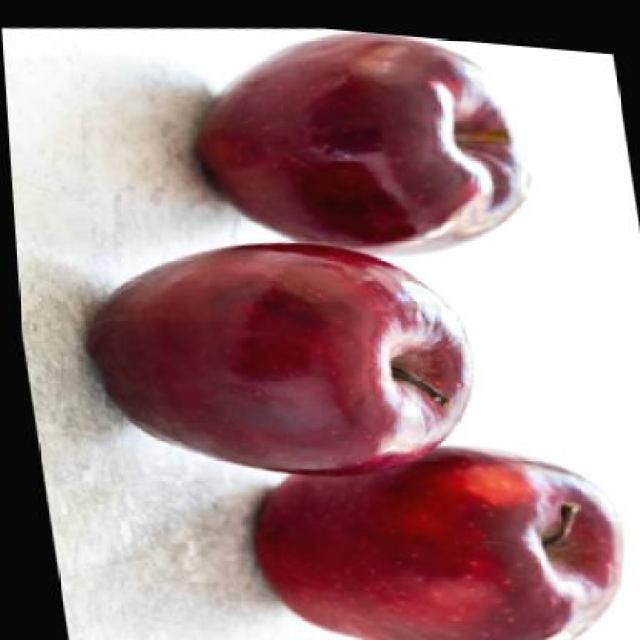Fresh Apple: (99, 246, 468, 472), (252, 440, 611, 638), (210, 52, 516, 262)
